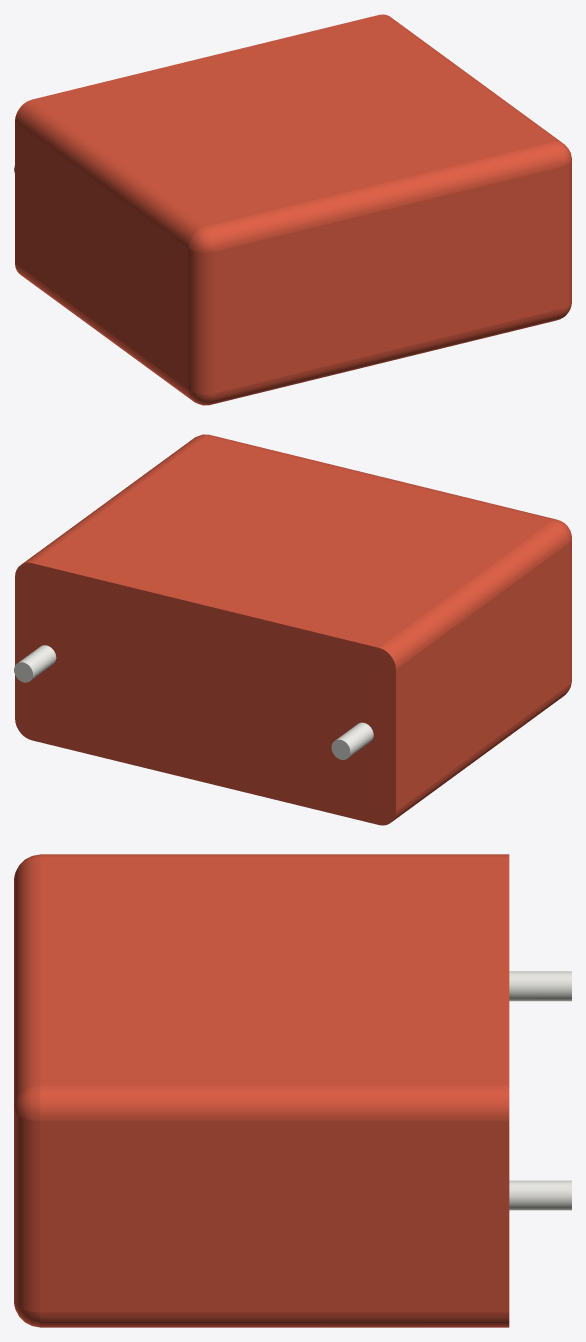
Rendered from C_Rect_L18.0mm_W8.0mm_P15.00mm_FKS3_FKP3.glb.
3 renders of one model, top to bottom at view 1: azimuth 30°, elevation 25°; view 2: azimuth 150°, elevation 25°; view 3: azimuth 270°, elevation 25°, orthographic. The views are drawn at different scales.
Parts seen in each view (by area): view 1: Shape_IndexedFaceSet.009, Shape_IndexedFaceSet.008, Shape_IndexedFaceSet, Shape_IndexedFaceSet.016, Shape_IndexedFaceSet.004, Shape_IndexedFaceSet.002, Shape_IndexedFaceSet.015, Shape_IndexedFaceSet.001, Shape_IndexedFaceSet.017, Shape_IndexedFaceSet.011, Shape_IndexedFaceSet.007; view 2: Shape_IndexedFaceSet.003, Shape_IndexedFaceSet.009, Shape_IndexedFaceSet, Shape_IndexedFaceSet.004, Shape_IndexedFaceSet.001, Shape_IndexedFaceSet.011, Shape_IndexedFaceSet.016, Shape_IndexedFaceSet.013, Shape_IndexedFaceSet.014; view 3: Shape_IndexedFaceSet.009, Shape_IndexedFaceSet.012, Shape_IndexedFaceSet.011, Shape_IndexedFaceSet.010, Shape_IndexedFaceSet.016, Shape_IndexedFaceSet.017, Shape_IndexedFaceSet.013, Shape_IndexedFaceSet.014, Shape_IndexedFaceSet.004, Shape_IndexedFaceSet.019.
Part boxes in pixels (x1,y1,x2,y2): Shape_IndexedFaceSet.009: (32, 15, 551, 226); Shape_IndexedFaceSet.008: (215, 167, 562, 392); Shape_IndexedFaceSet: (15, 122, 188, 389); Shape_IndexedFaceSet.016: (206, 142, 562, 251); Shape_IndexedFaceSet.004: (15, 99, 204, 248); Shape_IndexedFaceSet.002: (188, 248, 215, 394); Shape_IndexedFaceSet.015: (210, 308, 562, 404); Shape_IndexedFaceSet.001: (15, 263, 193, 401); Shape_IndexedFaceSet.017: (562, 161, 571, 308); Shape_IndexedFaceSet.011: (379, 14, 561, 142); Shape_IndexedFaceSet.007: (188, 226, 215, 252); Shape_IndexedFaceSet.003: (15, 562, 395, 825); Shape_IndexedFaceSet.009: (32, 436, 551, 647); Shape_IndexedFaceSet: (396, 543, 569, 810); Shape_IndexedFaceSet.004: (379, 521, 569, 669); Shape_IndexedFaceSet.001: (392, 685, 569, 821); Shape_IndexedFaceSet.011: (22, 435, 204, 563); Shape_IndexedFaceSet.016: (205, 435, 556, 520); Shape_IndexedFaceSet.013: (336, 722, 373, 757); Shape_IndexedFaceSet.014: (18, 645, 56, 679); Shape_IndexedFaceSet.009: (40, 857, 509, 1085); Shape_IndexedFaceSet.012: (40, 1120, 509, 1312); Shape_IndexedFaceSet.011: (40, 1085, 509, 1120); Shape_IndexedFaceSet.010: (40, 1312, 509, 1327); Shape_IndexedFaceSet.016: (14, 857, 40, 1107); Shape_IndexedFaceSet.017: (14, 1110, 40, 1312); Shape_IndexedFaceSet.013: (509, 971, 571, 1001); Shape_IndexedFaceSet.014: (509, 1180, 571, 1210); Shape_IndexedFaceSet.004: (40, 854, 509, 856); Shape_IndexedFaceSet.019: (14, 1085, 40, 1120).
Size of the model in its own units: 7.09 by 3.15 by 6.65.
